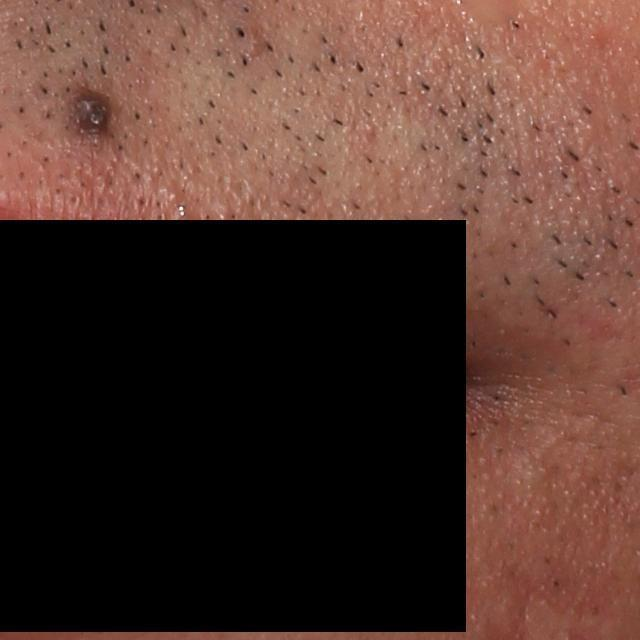nevus: (61, 77, 112, 154)
